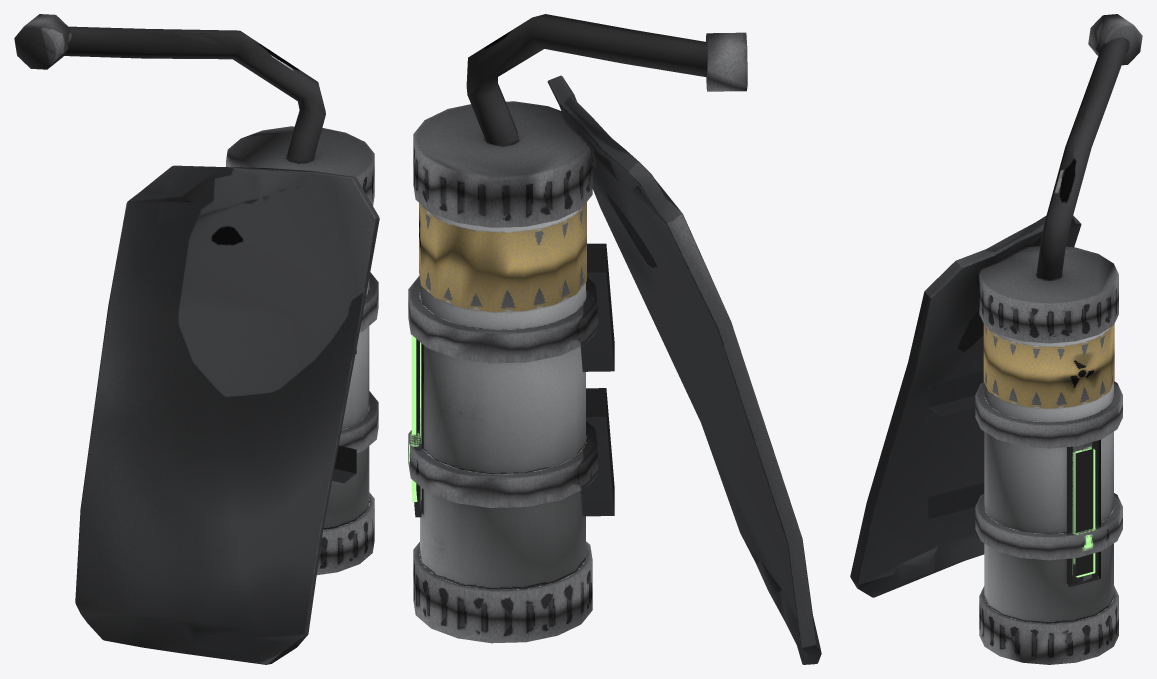
File: pc3_power_cell.gltf
The picture shows the model from 3 angles, left to right: view 1: azimuth 30°, elevation 25°; view 2: azimuth 150°, elevation 25°; view 3: azimuth 270°, elevation 25°; orthographic projection. The views are drawn at different scales.
Visible parts, largest first — view 1: B_spine__pc3_power_cell; view 2: B_spine__pc3_power_cell; view 3: B_spine__pc3_power_cell.
Part boxes in pixels (x1=…): B_spine__pc3_power_cell: x1=14, y1=14, x2=379, y2=664; B_spine__pc3_power_cell: x1=408, y1=14, x2=821, y2=664; B_spine__pc3_power_cell: x1=850, y1=14, x2=1142, y2=664.
Size of the model in its own units: 0.1093 by 0.1911 by 0.0948.
Materials: 1 (1 with a texture image).
